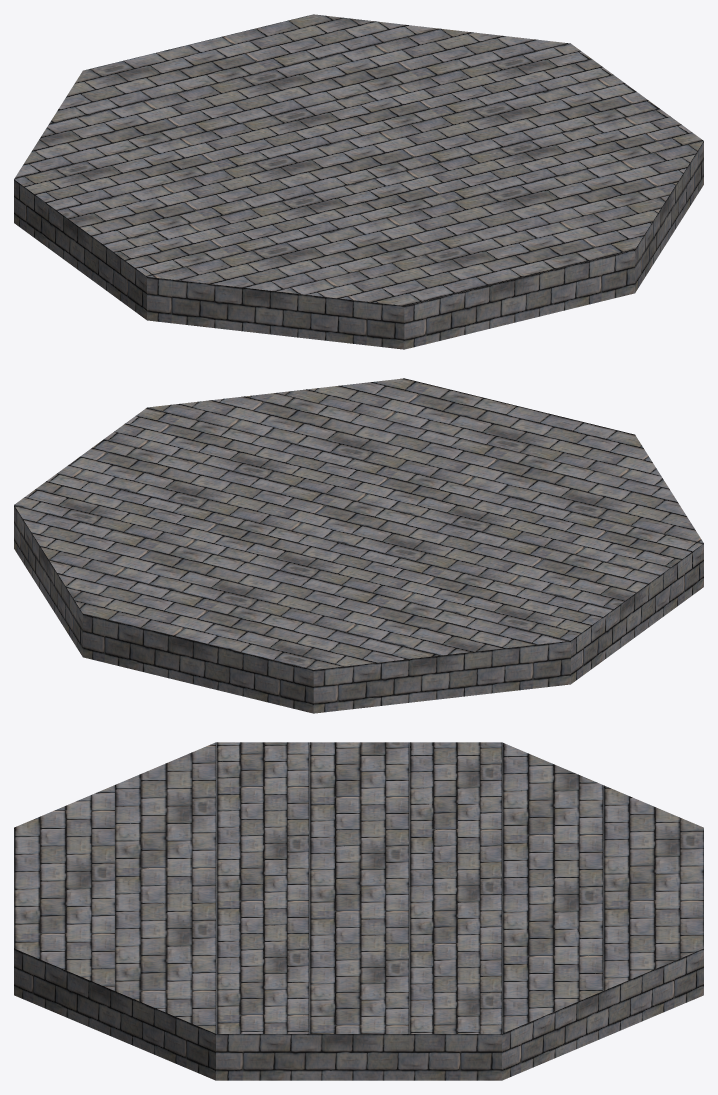
The model's file is sanctum_floor_02.fbx.
3 renders of one model, top to bottom at view 1: azimuth 30°, elevation 25°; view 2: azimuth 150°, elevation 25°; view 3: azimuth 270°, elevation 25°, orthographic. The views are drawn at different scales.
Visible parts, largest first — view 1: sanctum_floor_02; view 2: sanctum_floor_02; view 3: sanctum_floor_02.
Boxes of the visible parts, x1,y1,x2,y2 form: sanctum_floor_02: [14, 14, 703, 349]; sanctum_floor_02: [14, 378, 703, 713]; sanctum_floor_02: [14, 742, 703, 1080].
Bounding box in the file's own units: 4000 × 300 × 4000.
